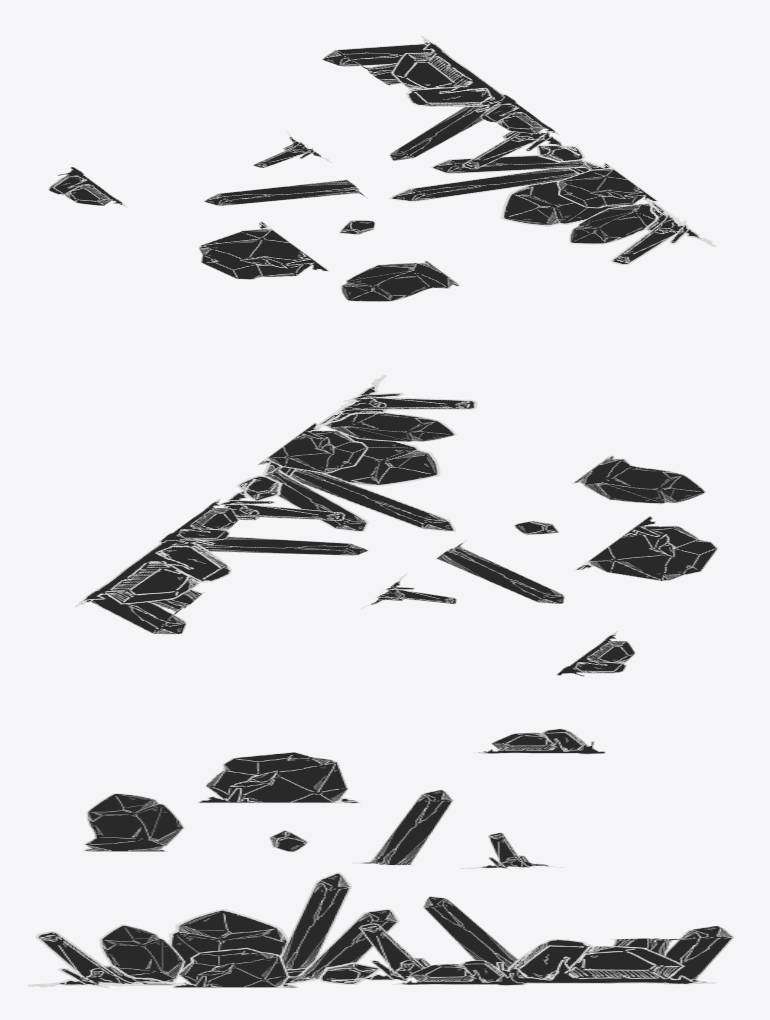
The picture shows the model from 3 angles, top to bottom: view 1: azimuth 30°, elevation 25°; view 2: azimuth 150°, elevation 25°; view 3: azimuth 270°, elevation 25°; orthographic projection. The views are drawn at different scales.
Visible parts, largest first — view 1: 平面.007, 平面.002, 平面.006, 平面.004, 平面.001, 平面.005; view 2: 平面.007, 平面.002, 平面.006, 平面.004, 平面.001, 平面.005; view 3: 平面.007, 平面.002, 平面.006, 平面.004, 平面.001, 平面.005, 平面.003.
Part boxes in pixels (box(x1,y1,x2,y2)): 平面.007: box(321, 36, 716, 265); 平面.002: box(198, 221, 328, 279); 平面.006: box(340, 260, 460, 301); 平面.004: box(203, 179, 367, 206); 平面.001: box(48, 166, 127, 207); 平面.005: box(252, 131, 332, 167); 平面.007: box(75, 375, 477, 634); 平面.002: box(575, 516, 717, 581); 平面.006: box(572, 455, 706, 504); 平面.004: box(434, 540, 564, 603); 平面.001: box(556, 631, 635, 676); 平面.005: box(361, 573, 457, 608); 平面.007: box(27, 871, 734, 988); 平面.002: box(197, 751, 360, 803); 平面.006: box(83, 793, 184, 851); 平面.004: box(352, 789, 453, 865); 平面.001: box(473, 728, 605, 754); 平面.005: box(460, 832, 563, 869); 平面.003: box(269, 829, 308, 852).
Size of the model in its own units: 698 by 3.05e-05 by 763.
Materials: 1 (1 with a texture image).
